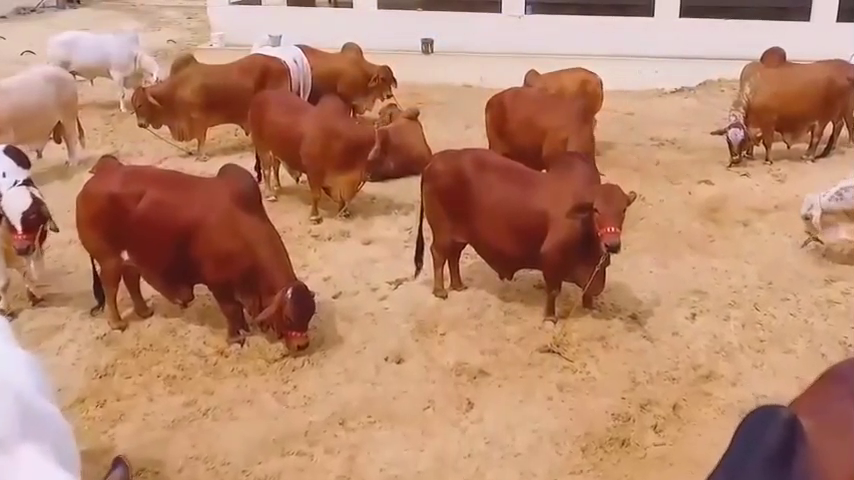bo: (72, 153, 329, 367), (419, 137, 634, 322), (677, 326, 854, 480), (3, 309, 131, 476), (703, 41, 851, 173), (244, 87, 377, 217), (127, 49, 284, 156), (476, 75, 594, 175), (44, 22, 175, 107), (3, 139, 60, 331), (293, 33, 396, 122), (4, 58, 85, 170), (354, 96, 434, 184), (511, 49, 610, 110), (794, 170, 854, 270), (252, 20, 322, 105)
